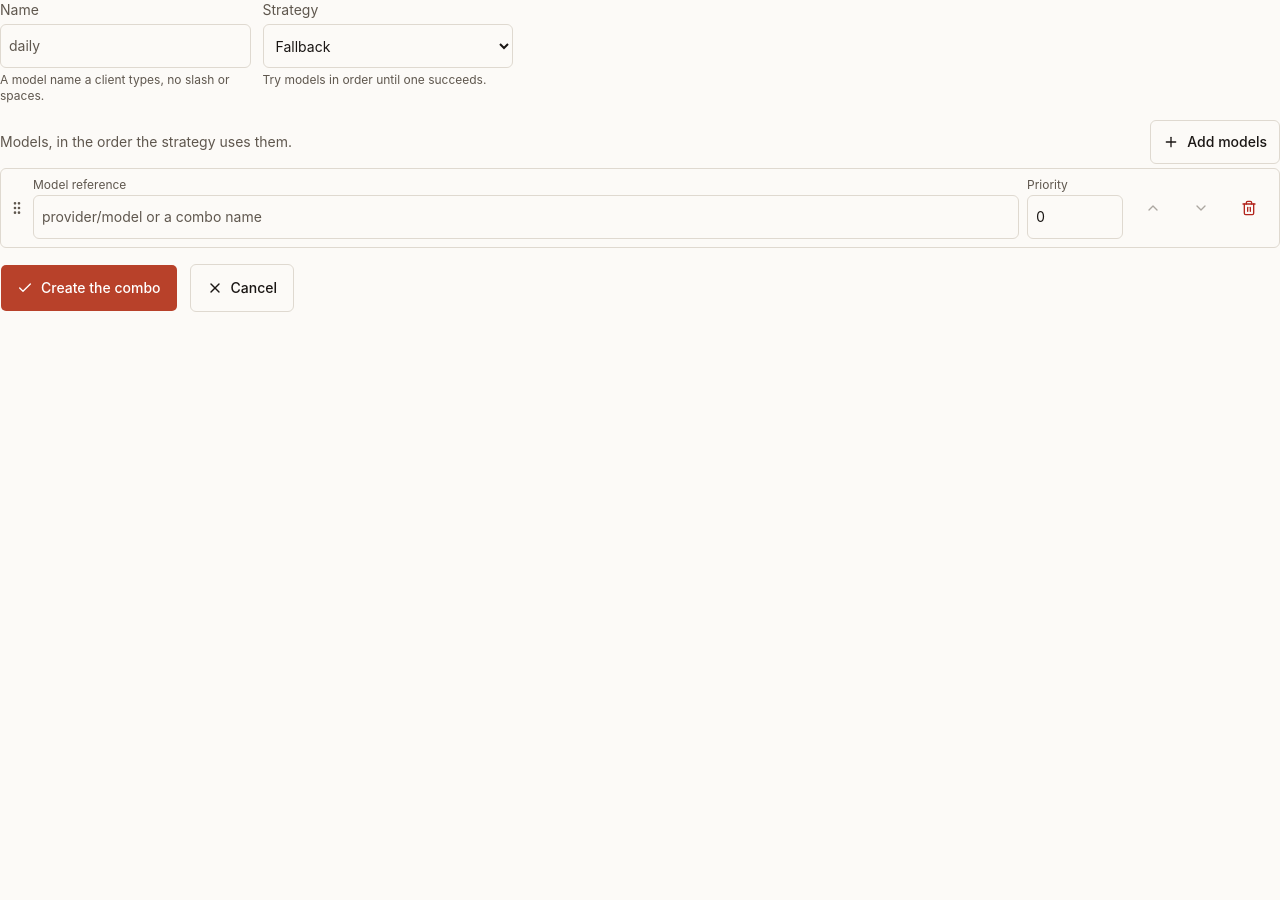
Scenario: the combo editor model list › fills the judge from the picker in single-select mode and closes it
The image size is (1280, 900).
Select "Fusion" in the dropdown labelled "Strategy" at (388, 46), box [262,24,513,68]
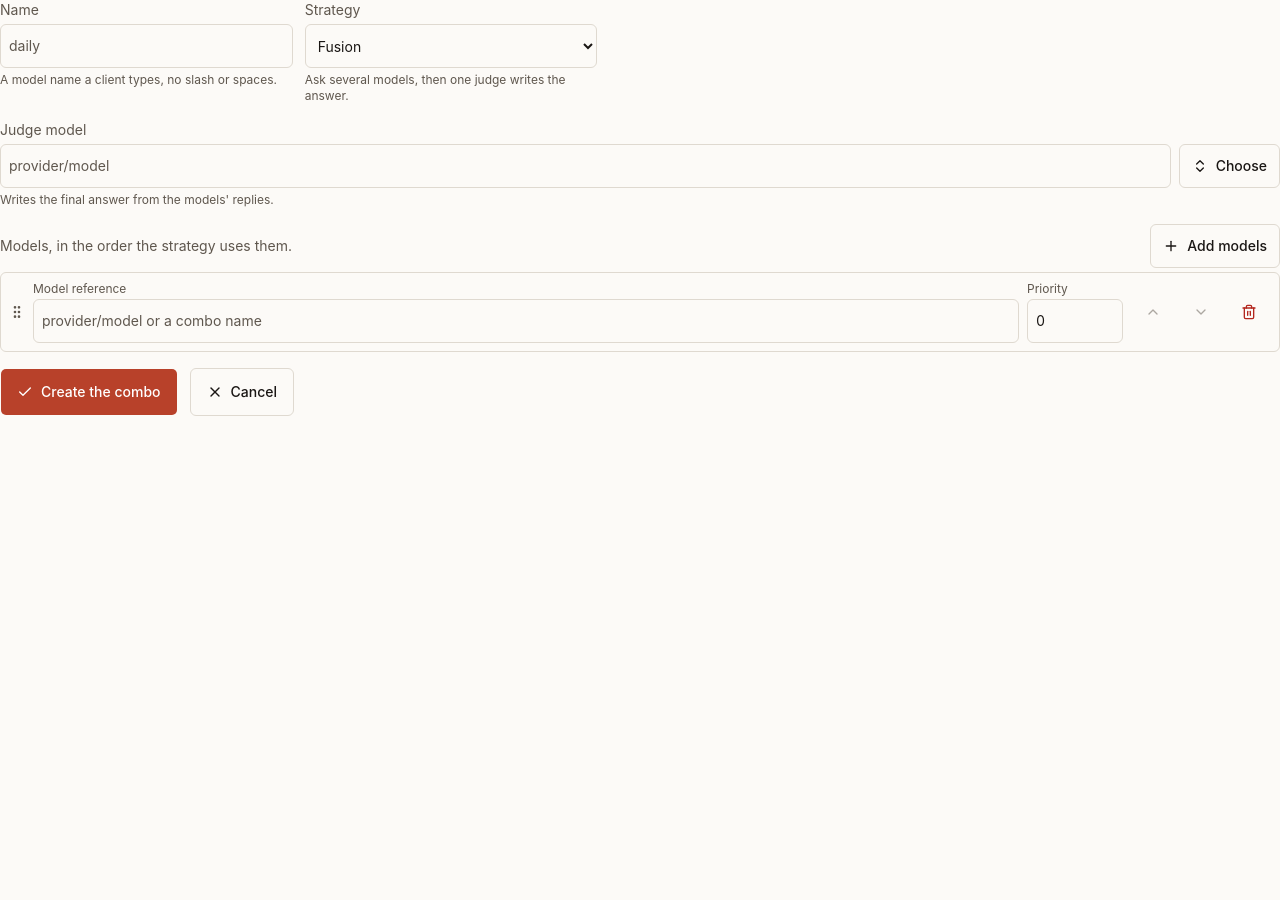
Click the button "Choose" at (1229, 166), box [1179,144,1279,188]
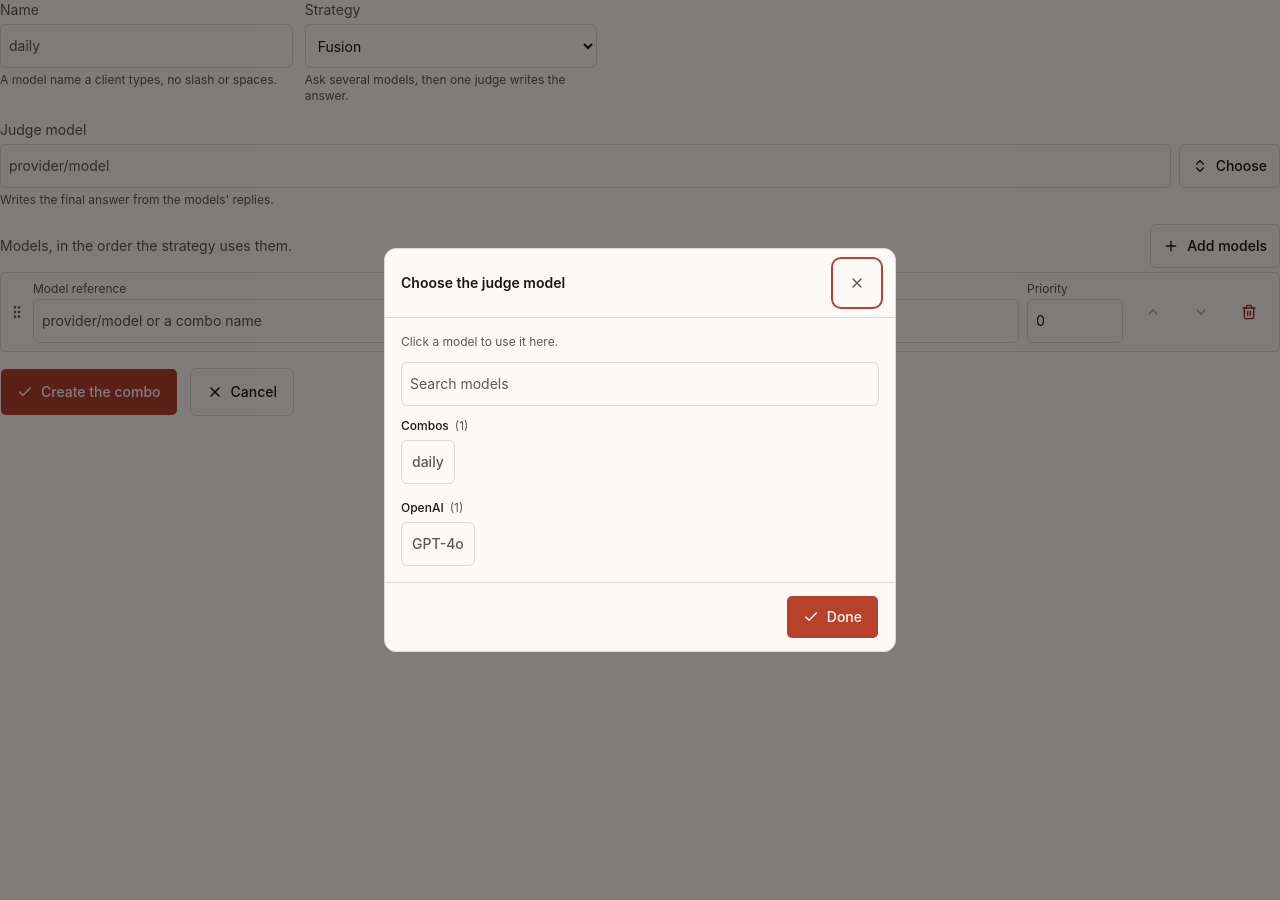
Click the button "GPT-4o" at (438, 544), box [401,522,475,566]
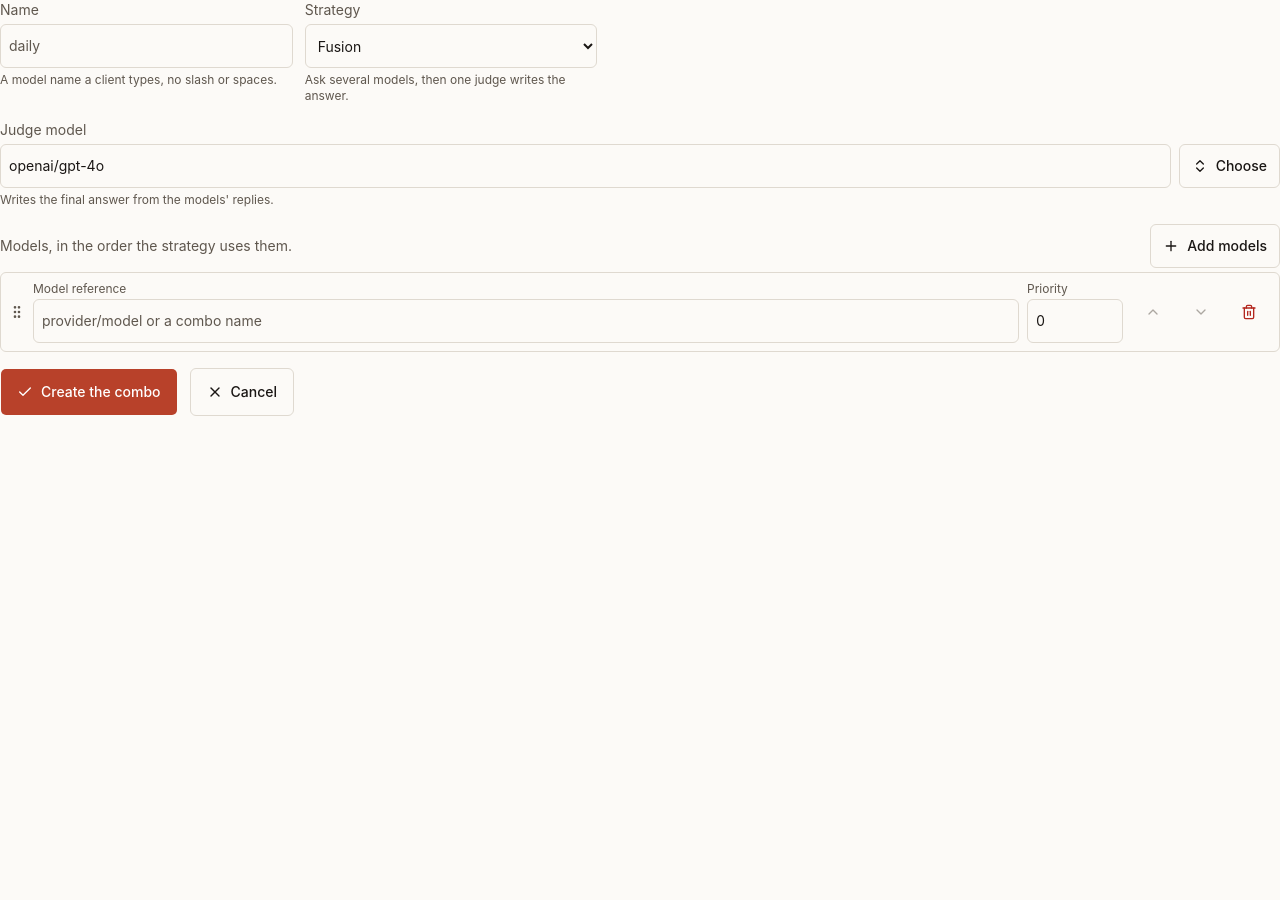
Expected: the field labelled "Judge model" holds "openai/gpt-4o", [0,144,1171,188]
